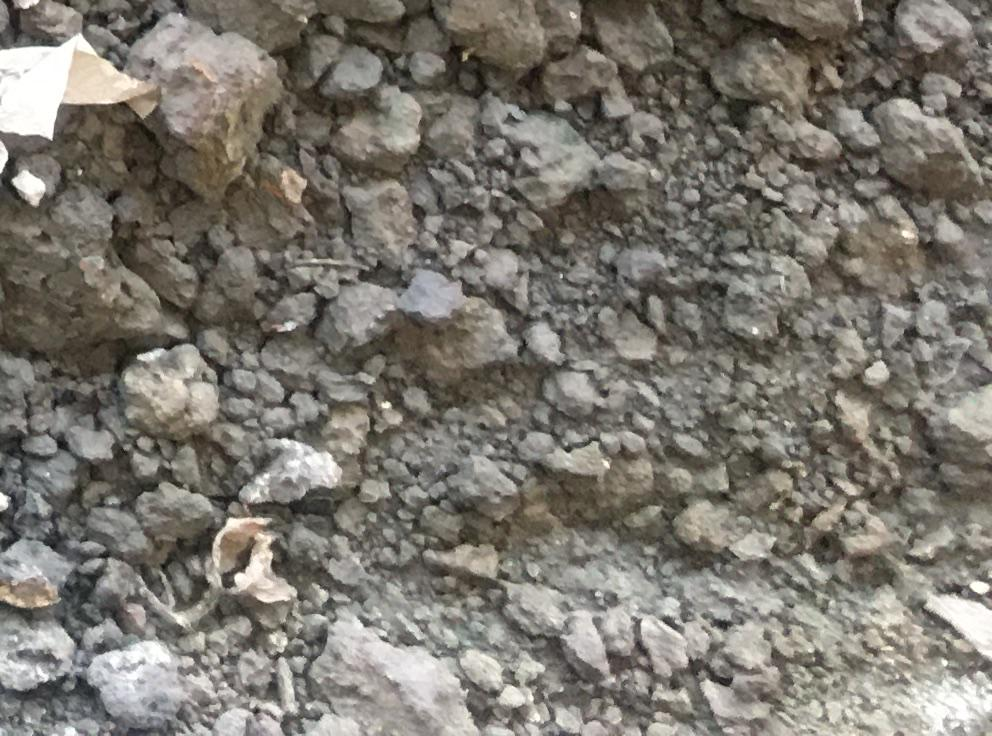block: (118, 8, 280, 200)
